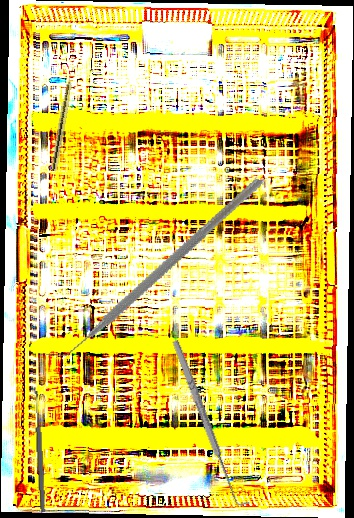Chopper: (42, 135, 263, 399)
Handpiece: (50, 64, 77, 172)
Hook Surgical: (169, 336, 250, 510)
Surgical Spoon: (33, 390, 47, 513)
